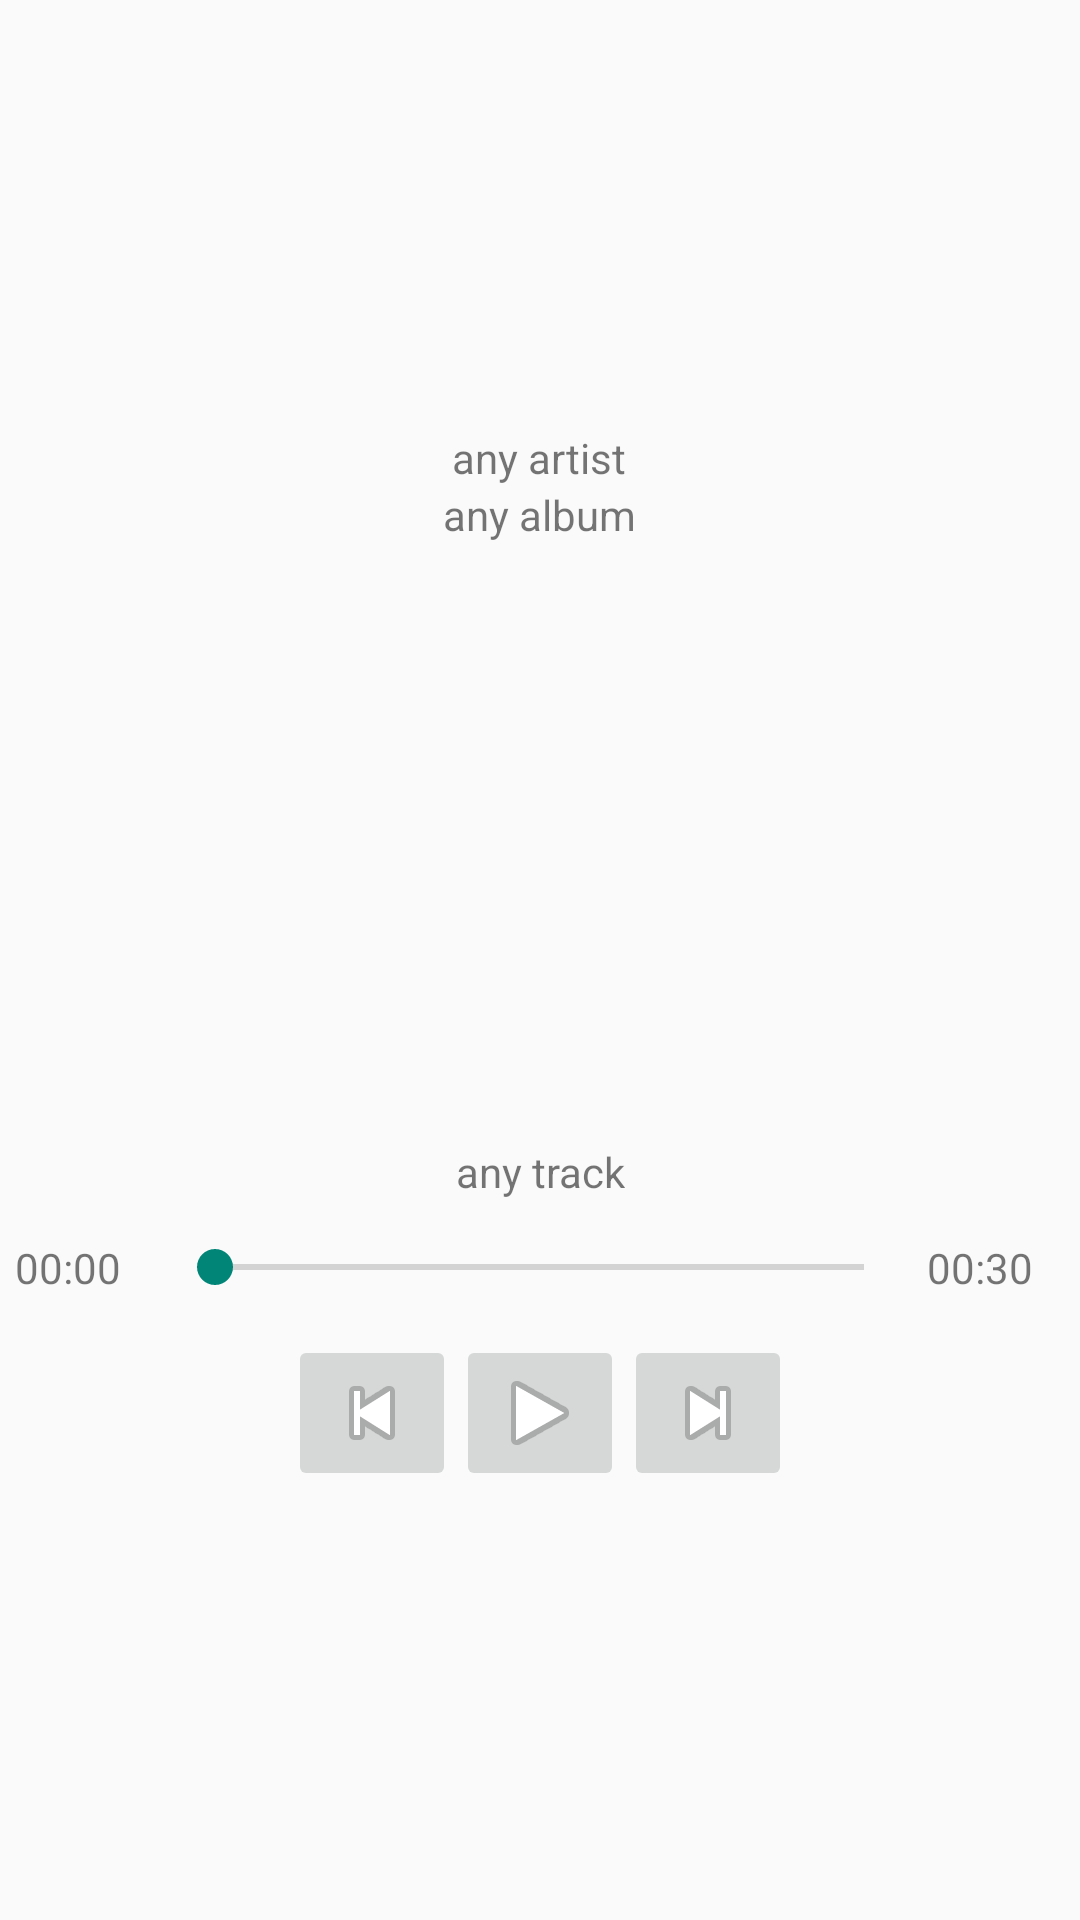

Named icons in this screenshot (1080px x 1920px) and their bounding boxes, box(x1, y1, x2, y2):
next: box(636, 1353, 780, 1473)
play: box(468, 1353, 612, 1473)
previous: box(300, 1353, 444, 1473)
